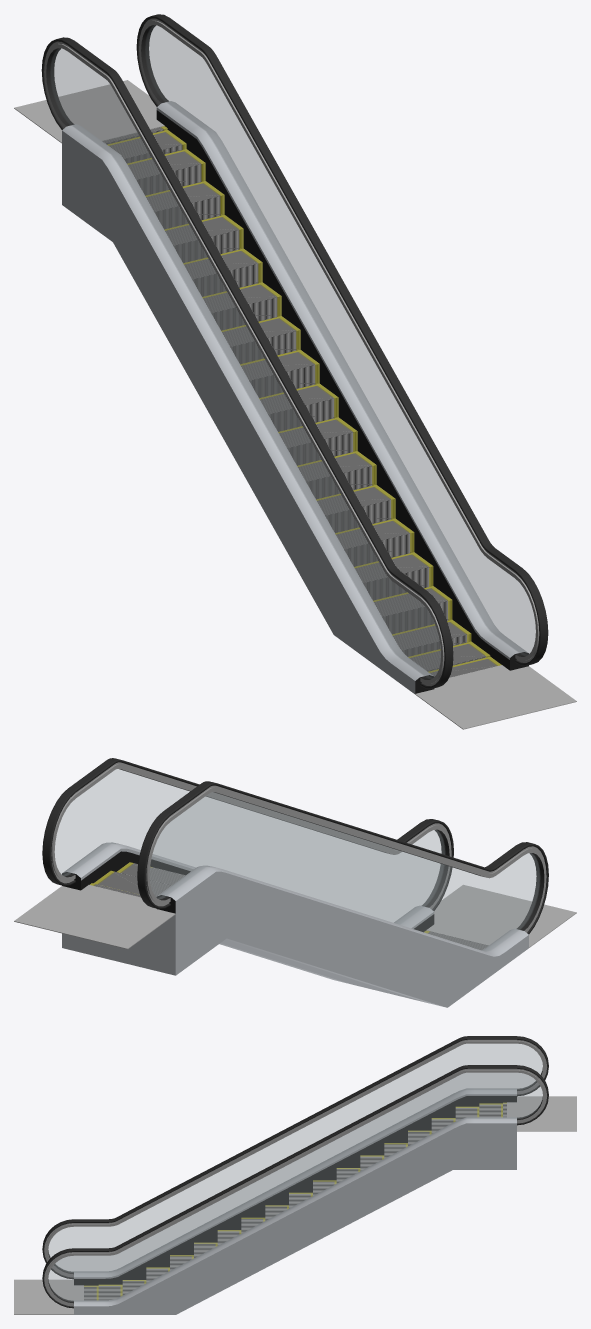
Rendered from sweethome3d-scopia-escalator-335.glb.
The picture shows the model from 3 angles, top to bottom: view 1: azimuth 30°, elevation 25°; view 2: azimuth 150°, elevation 25°; view 3: azimuth 270°, elevation 25°; orthographic projection. The views are drawn at different scales.
Parts seen in each view (by area): view 1: basehandrail_Plane.001, glass_Cube, Cube.001_Cube.003, handrail_CUBezierCircle.001, metalicCover_Cube.002, MetalicCover_Cube.005; view 2: glass_Cube, basehandrail_Plane.001, handrail_CUBezierCircle.001, MetalicCover_Cube.005, metalicCover_Cube.002, lowCover_Plane.010, Cube.001_Cube.003; view 3: glass_Cube, basehandrail_Plane.001, handrail_CUBezierCircle.001, Cube.001_Cube.003, MetalicCover_Cube.005, metalicCover_Cube.002.
Boxes of the visible parts, x1=… form: basehandrail_Plane.001: x1=62, y1=101, x2=528, y2=694; glass_Cube: x1=50, y1=25, x2=535, y2=678; Cube.001_Cube.003: x1=103, y1=126, x2=501, y2=677; handrail_CUBezierCircle.001: x1=41, y1=14, x2=548, y2=688; metalicCover_Cube.002: x1=415, y1=665, x2=576, y2=729; MetalicCover_Cube.005: x1=14, y1=80, x2=164, y2=143; glass_Cube: x1=55, y1=769, x2=539, y2=951; basehandrail_Plane.001: x1=62, y1=842, x2=528, y2=1007; handrail_CUBezierCircle.001: x1=42, y1=758, x2=548, y2=934; MetalicCover_Cube.005: x1=14, y1=885, x2=175, y2=949; metalicCover_Cube.002: x1=426, y1=885, x2=576, y2=947; lowCover_Plane.010: x1=81, y1=928, x2=425, y2=1002; Cube.001_Cube.003: x1=90, y1=862, x2=487, y2=950; glass_Cube: x1=48, y1=1044, x2=542, y2=1301; basehandrail_Plane.001: x1=74, y1=1088, x2=516, y2=1314; handrail_CUBezierCircle.001: x1=42, y1=1036, x2=548, y2=1308; Cube.001_Cube.003: x1=84, y1=1102, x2=506, y2=1300; MetalicCover_Cube.005: x1=507, y1=1096, x2=576, y2=1131; metalicCover_Cube.002: x1=14, y1=1279, x2=83, y2=1314.
Size of the model in its own units: 129 by 425 by 882.
Materials: 7 (1 with a texture image).
